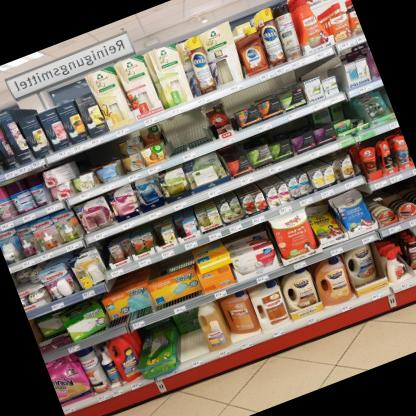empty_space: (159, 113, 211, 161), (177, 329, 209, 363)
